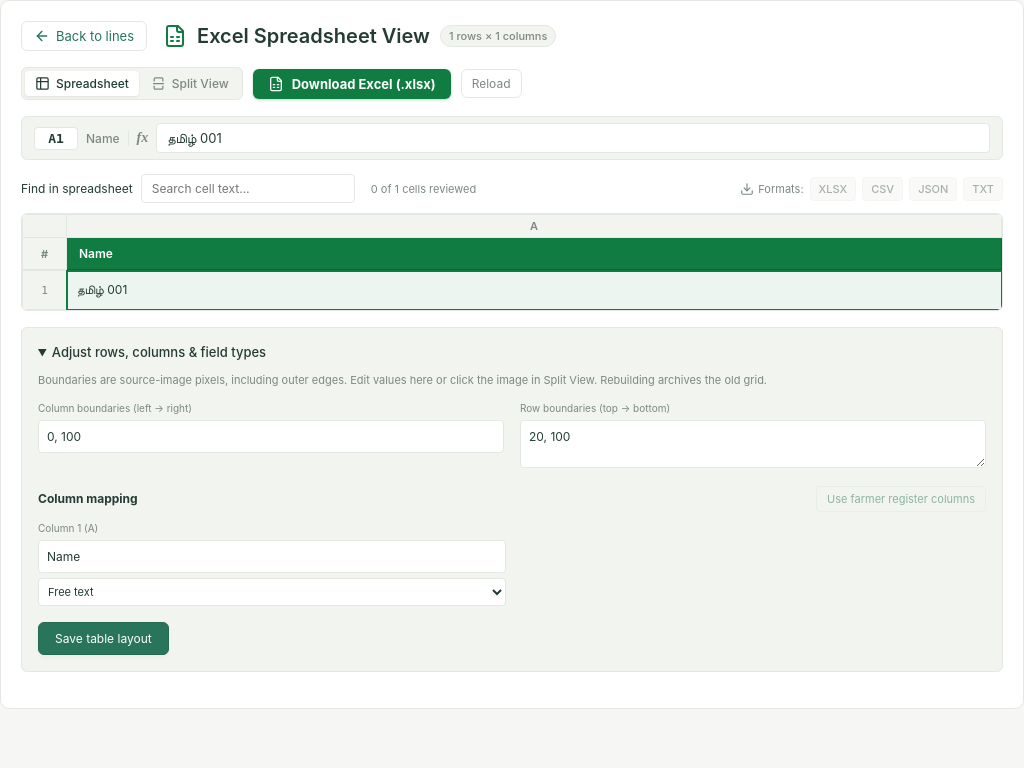
Test: blocks invalid boundaries and shows save failures
The image size is (1024, 768).
Expected: the button "Save table layout" is shown, [38,622,169,655]
Replace the text in the text box labelled "Row boundaries" with "100,20" at x=753, y=444, box [520,420,986,468]
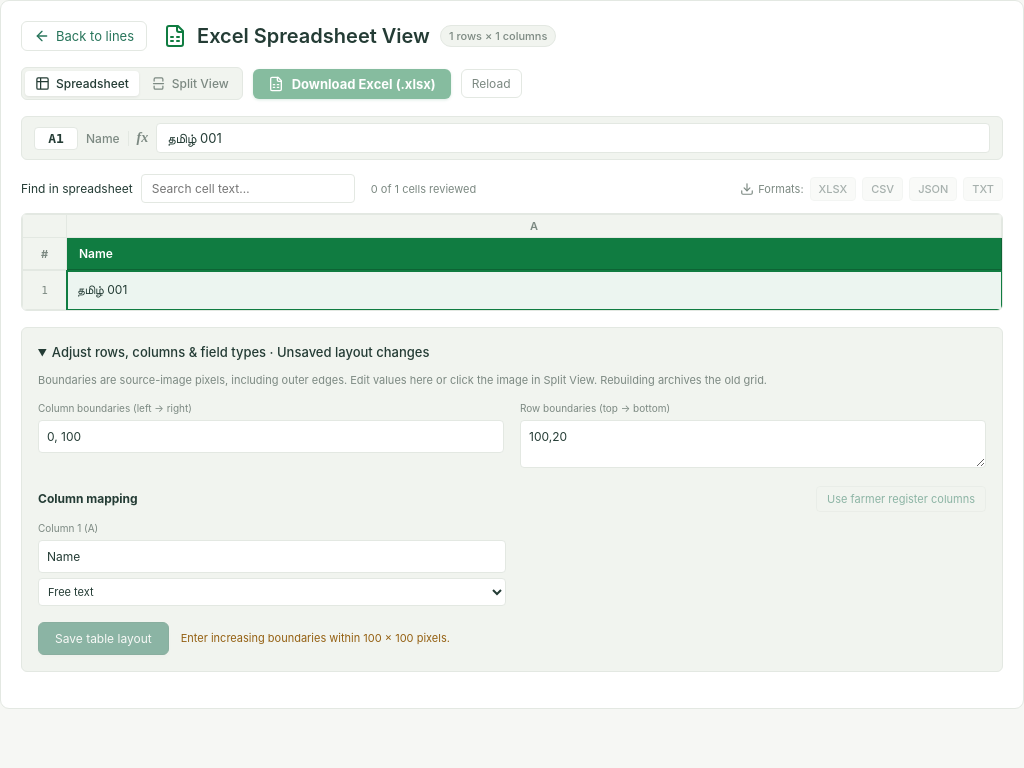
Expected: the button "Save table layout" is disabled, [38,622,169,655]
Replace the text in the text box labelled "Row boundaries" with "20,100" at x=753, y=444, box [520,420,986,468]
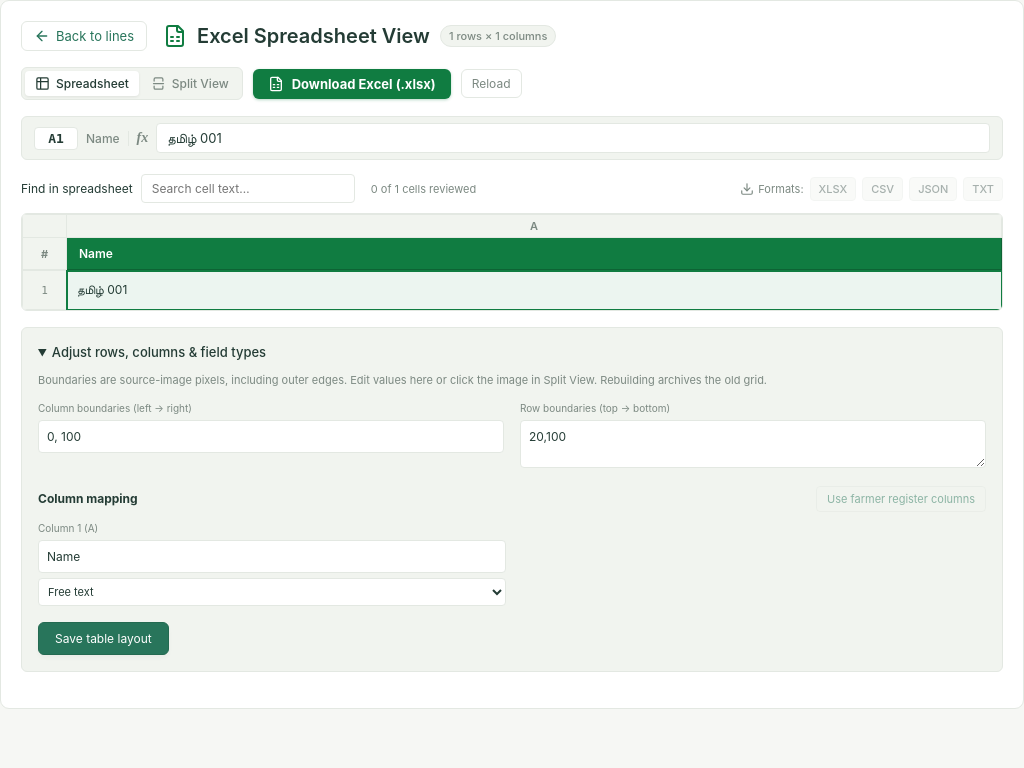
Click the button "Save table layout" at x=103, y=638, box [38,622,169,655]
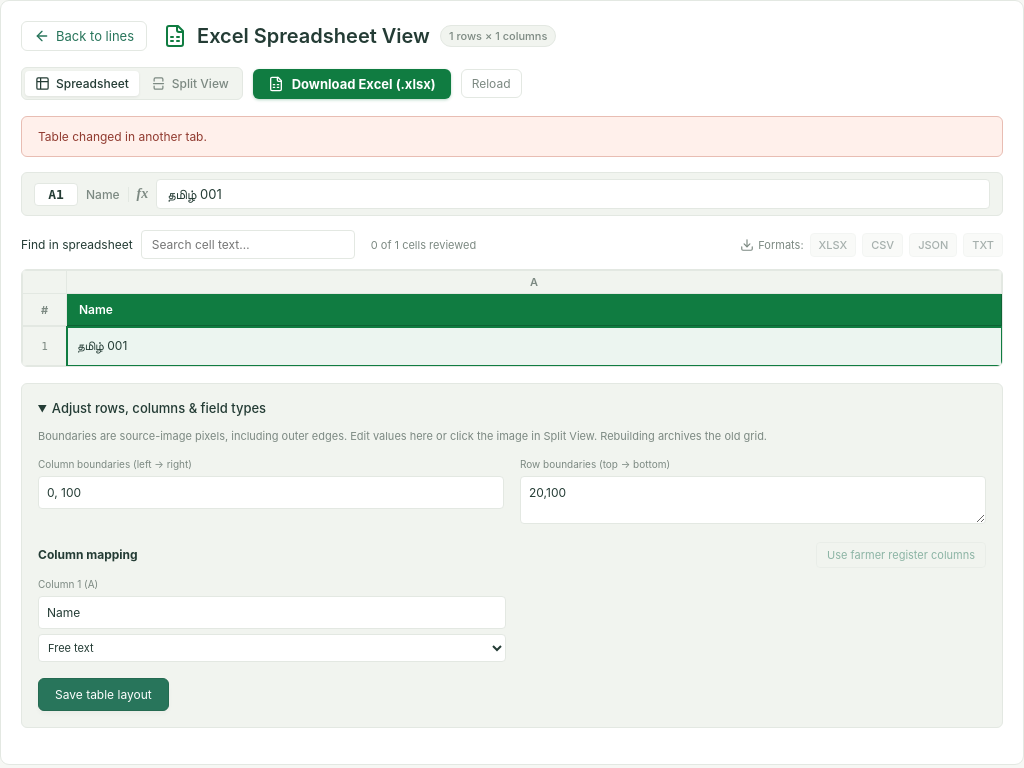
Expected: the message reads "Table changed in another tab.", [38,129,207,144]
